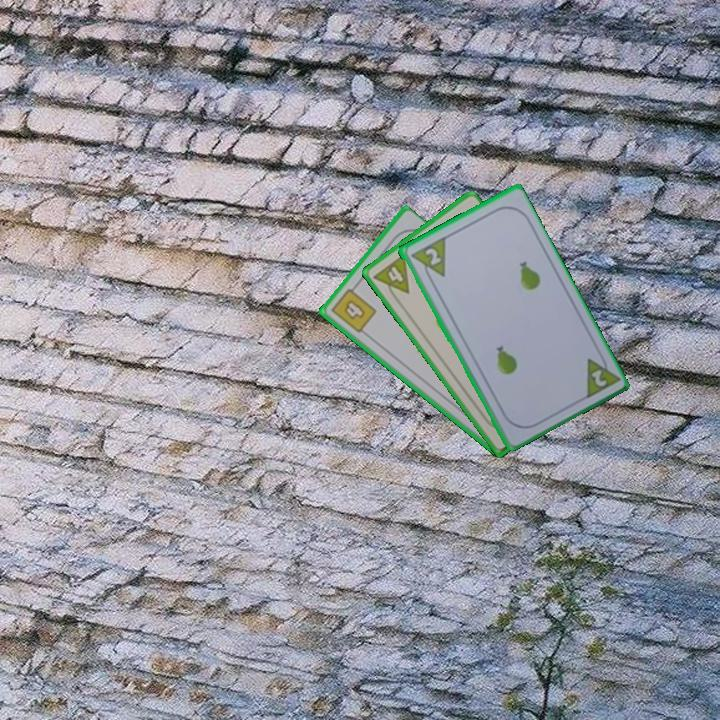2p: (421, 244, 444, 268), (587, 366, 609, 390)
4b: (327, 281, 380, 336)
4p: (370, 250, 412, 304)
